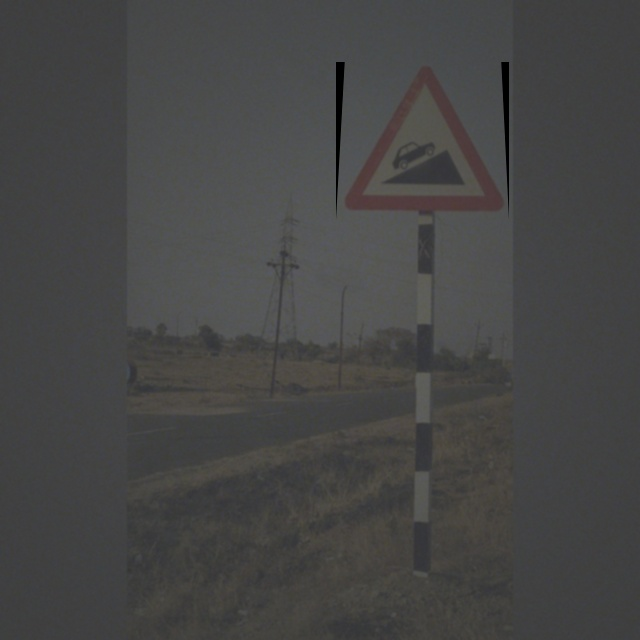Steep_Ascent: (336, 62, 509, 220)
